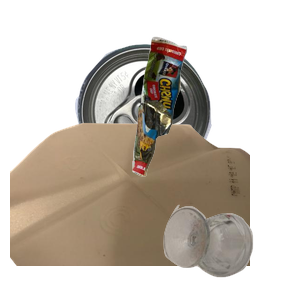glass: (161, 202, 300, 300)
metal: (73, 42, 277, 212)
plastic: (10, 120, 250, 300)
trash: (130, 34, 300, 203)
